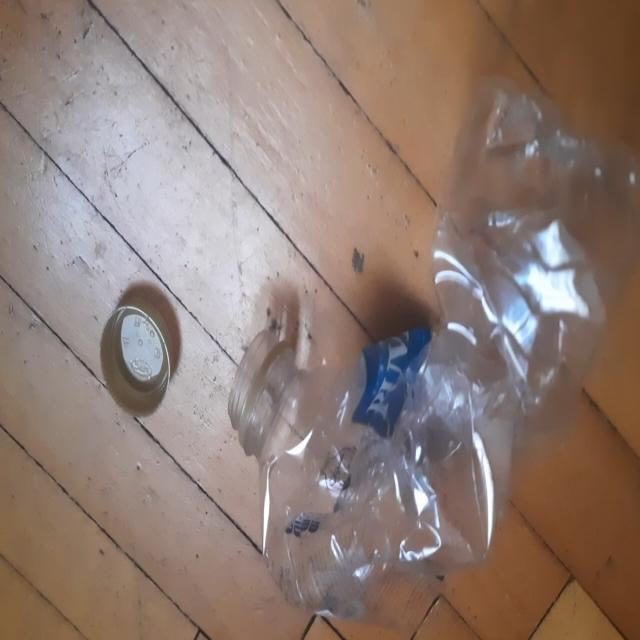Plastic: (230, 76, 636, 622)
